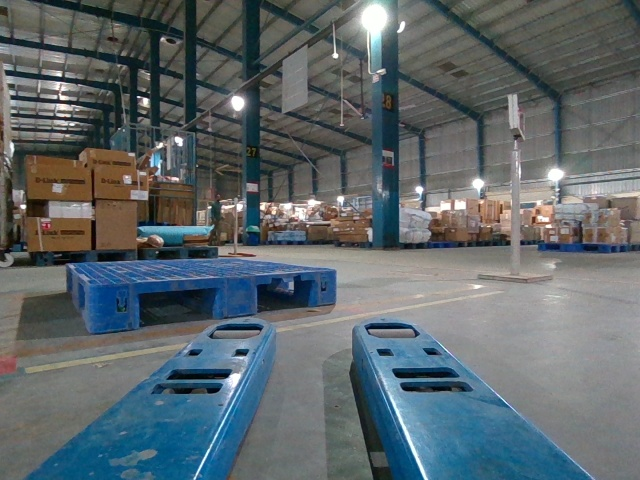block: (87, 281, 137, 333), (214, 276, 262, 318), (304, 273, 336, 309)
front: (92, 268, 337, 332)
hole pallet: (140, 287, 216, 326), (253, 276, 314, 313)
